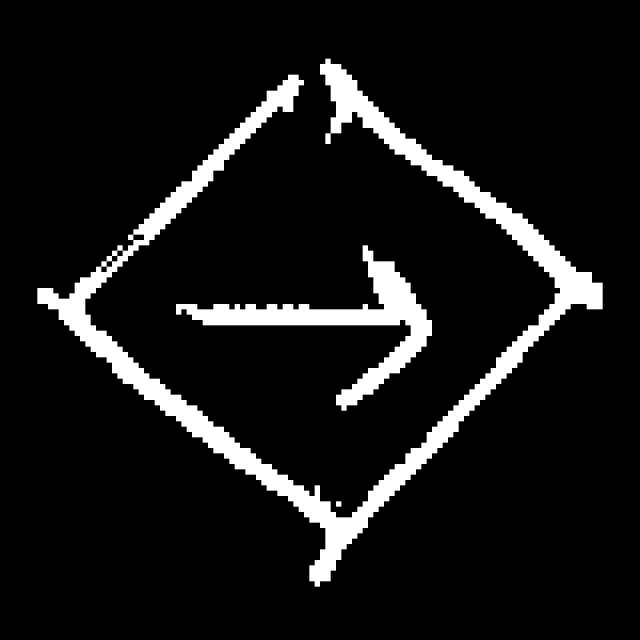dependant_current: (56, 69, 568, 577)
